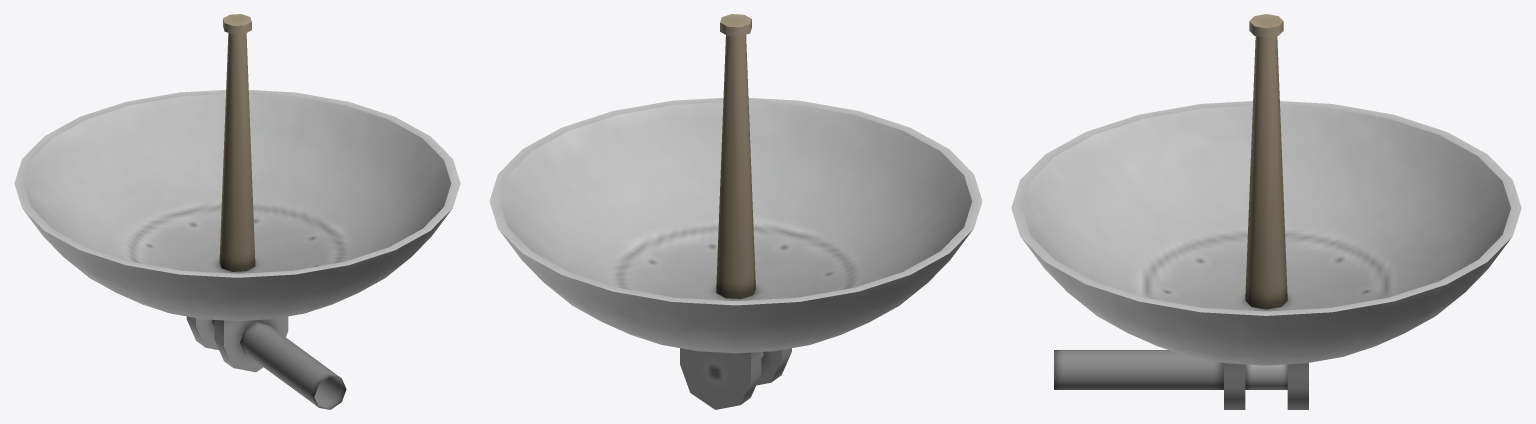
The model's file is Tantares_Antenna_2_1.obj.
The picture shows the model from 3 angles, left to right: view 1: azimuth 30°, elevation 25°; view 2: azimuth 150°, elevation 25°; view 3: azimuth 270°, elevation 25°; orthographic projection. The views are drawn at different scales.
Parts seen in each view (by area): view 1: Tantares_Antenna_2_1; view 2: Tantares_Antenna_2_1; view 3: Tantares_Antenna_2_1.
Part boxes in pixels (<box>): Tantares_Antenna_2_1: <box>14,14,460,409</box>; Tantares_Antenna_2_1: <box>489,14,982,409</box>; Tantares_Antenna_2_1: <box>1011,14,1521,409</box>.
Bounding box in the file's own units: 0.3 × 0.2512 × 0.3.
